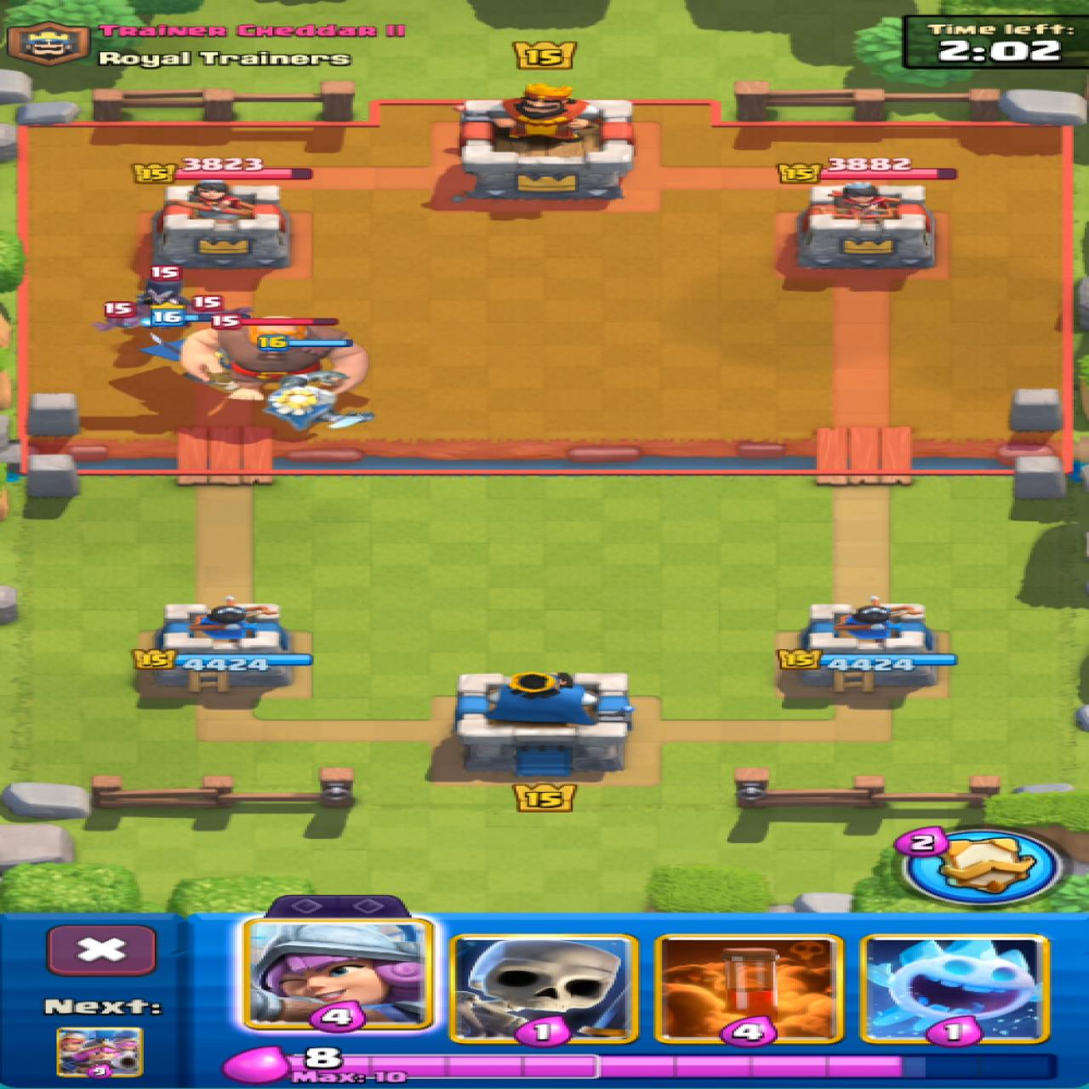Enemy-Bat: (96, 302, 148, 330)
Enemy-Giant: (183, 319, 366, 399)
Enemy-KingTower: (457, 84, 632, 198)
Enemy-NightWitch: (137, 263, 185, 306)
Enemy-PrincessTower: (152, 180, 290, 268), (797, 182, 932, 268)
